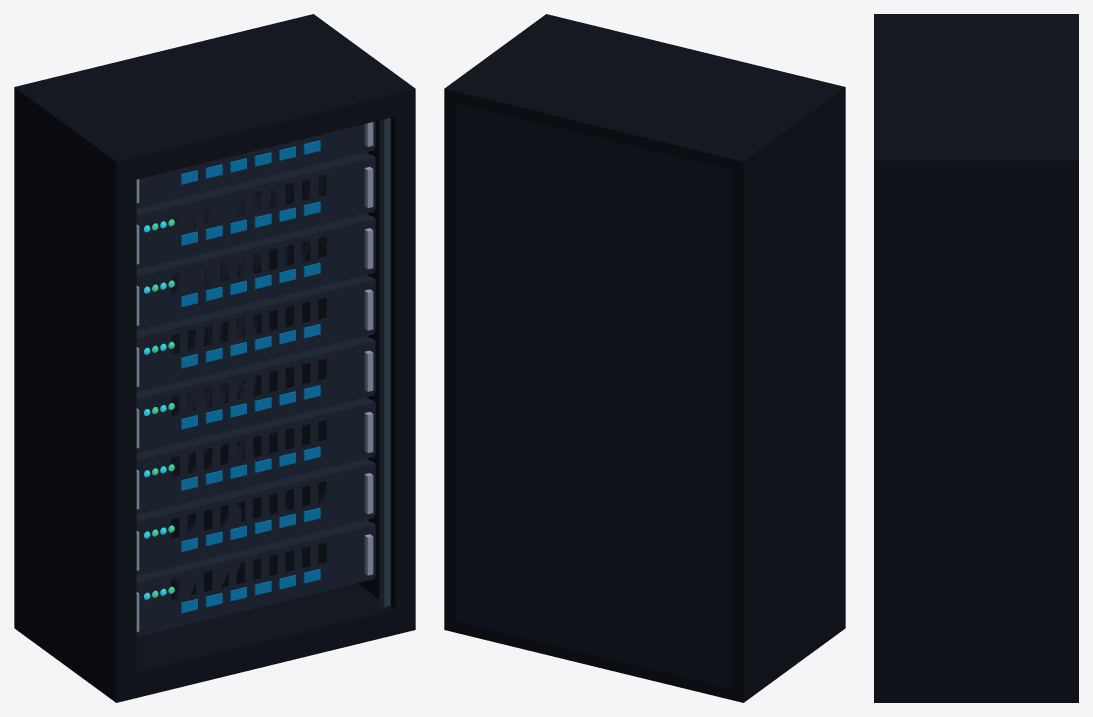
The model's file is server_rack.glb.
The picture shows the model from 3 angles, left to right: view 1: azimuth 30°, elevation 25°; view 2: azimuth 150°, elevation 25°; view 3: azimuth 270°, elevation 25°; orthographic projection.
Parts seen in each view (by area): view 1: object 1, object 3, Blade_0, Blade_2, Blade_1, Blade_6, Blade_4, Blade_5, Blade_3, object 4, object 13, object 2 (+5 smaller); view 2: object 5, object 1, object 3, object 2, object 4; view 3: object 2, object 3, object 4.
Boxes of the visible parts, x1,y1,x2,y2 form: object 1: (14, 87, 127, 702); object 3: (14, 14, 415, 172); Blade_0: (136, 519, 375, 636); Blade_2: (136, 397, 375, 514); Blade_1: (136, 458, 375, 575); Blade_6: (136, 152, 375, 269); Blade_4: (136, 275, 375, 391); Blade_5: (136, 213, 375, 330); Blade_3: (136, 336, 375, 453); object 4: (14, 583, 415, 702); object 13: (390, 112, 408, 610); object 2: (343, 37, 415, 632); object 5: (455, 103, 732, 688); object 1: (732, 87, 845, 702); object 3: (444, 14, 845, 172); object 2: (444, 45, 514, 632); object 4: (444, 614, 845, 702); object 2: (874, 155, 1078, 702); object 3: (874, 14, 1078, 171); object 4: (874, 698, 1078, 702).
Size of what is drawn, in the model's own units: 2.2 by 3.8 by 1.3.
